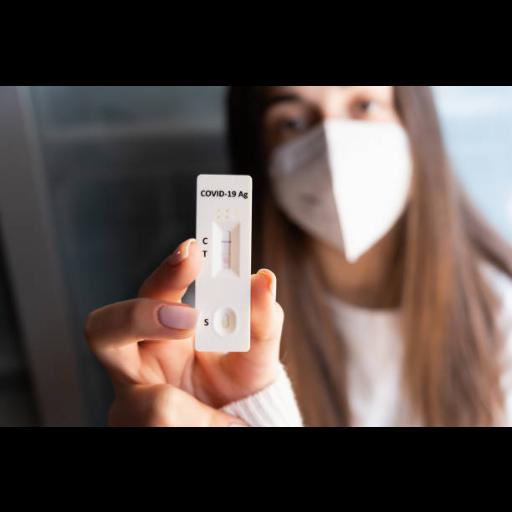Neg: (196, 173, 252, 351)
